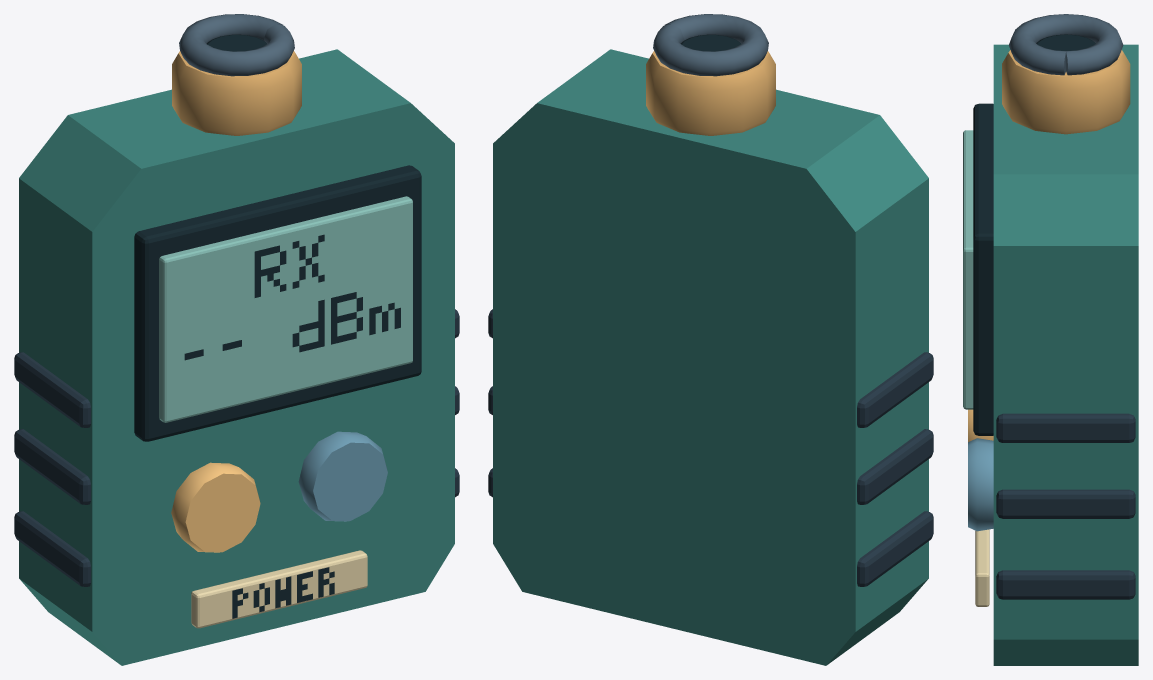
3 renders of one model, left to right at view 1: azimuth 30°, elevation 25°; view 2: azimuth 150°, elevation 25°; view 3: azimuth 270°, elevation 25°, orthographic.
Parts seen in each view (by area): view 1: PR123 enamel and hardware; view 2: PR123 enamel and hardware; view 3: PR123 enamel and hardware.
Boxes of the visible parts, x1,y1,x2,y2 form: PR123 enamel and hardware: (14,14,459,665); PR123 enamel and hardware: (488,14,933,665); PR123 enamel and hardware: (963,14,1138,665).
Bounding box in the file's own units: 0.2935 × 0.42 × 0.1197.
